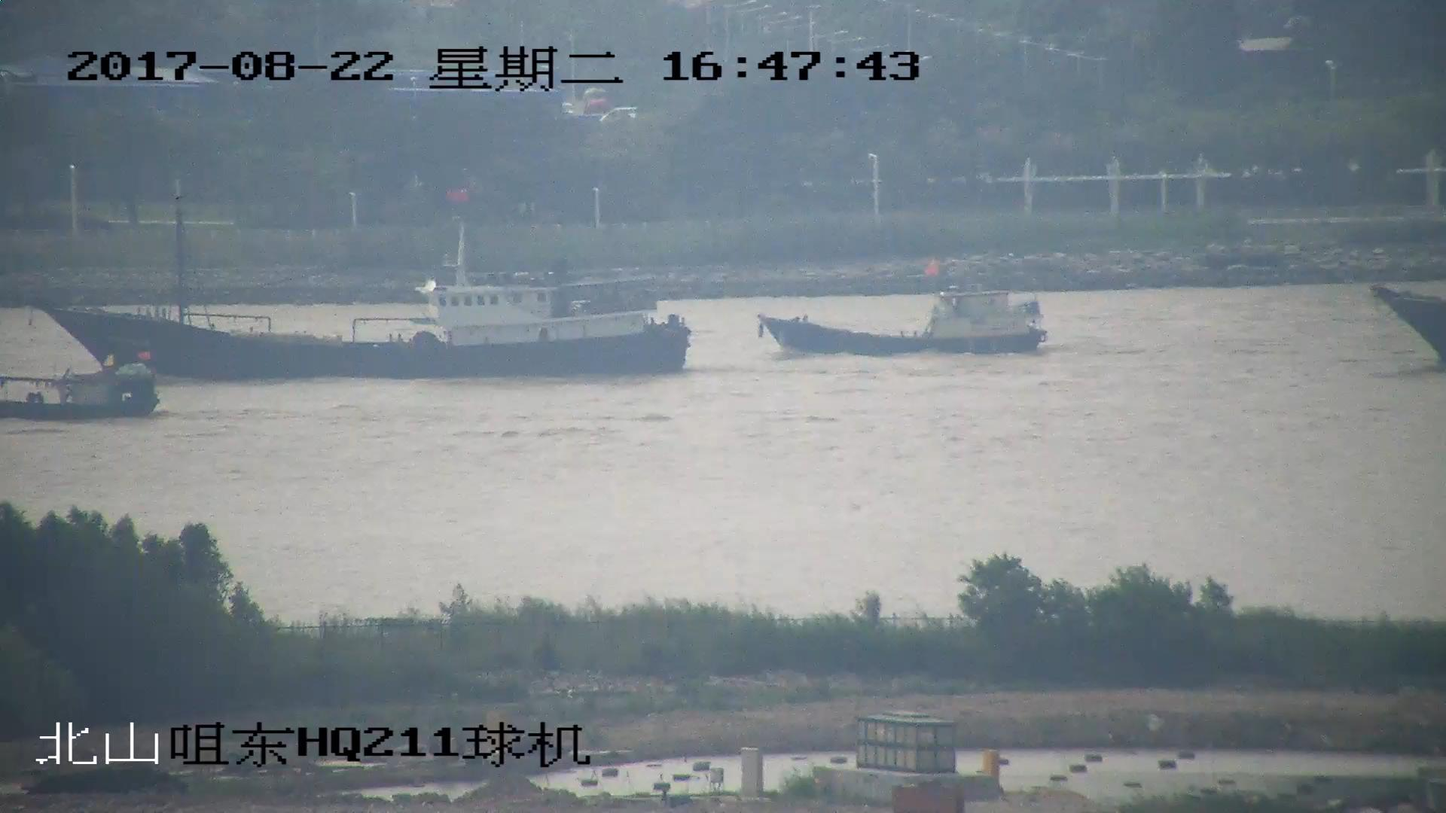fishing boat: (23, 184, 691, 381), (764, 260, 1042, 358), (0, 353, 169, 419)
